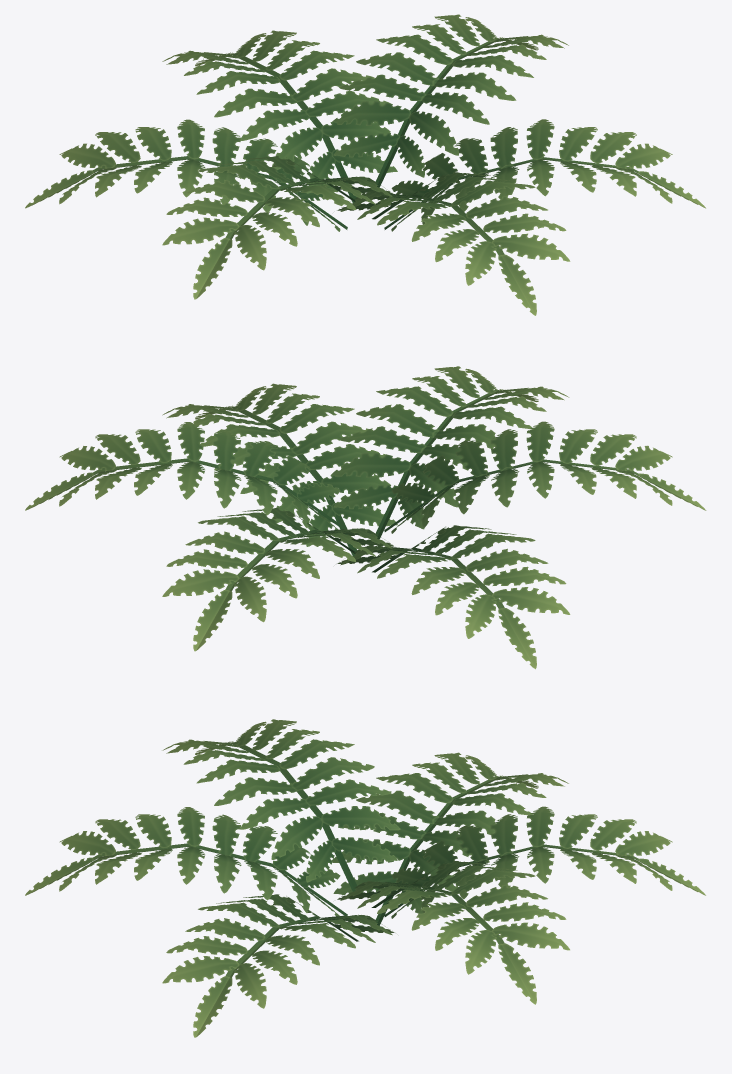
Rendered from Fern Without Berry.fbx.
3 renders of one model, top to bottom at view 1: azimuth 30°, elevation 25°; view 2: azimuth 150°, elevation 25°; view 3: azimuth 270°, elevation 25°, orthographic.
Visible parts, largest first — view 1: Fern #004; view 2: Fern #004; view 3: Fern #004.
Part boxes in pixels (bbox=[...]): Fern #004: bbox=[25, 14, 705, 315]; Fern #004: bbox=[25, 366, 706, 669]; Fern #004: bbox=[25, 719, 705, 1037].
Bounding box in the file's own units: 137 × 25.8 × 140.
Materials: 1 (1 with a texture image).
